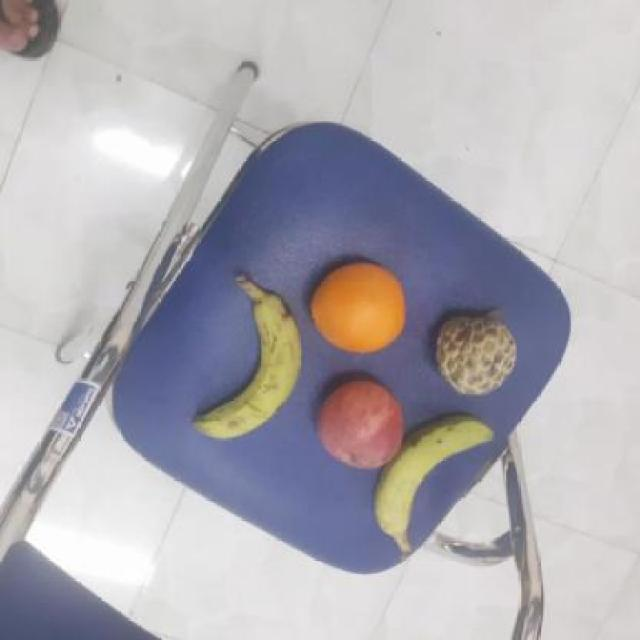apple: (312, 379, 408, 476)
banana: (188, 287, 302, 444), (374, 416, 498, 542)
oren: (309, 258, 408, 356)
sugar apple: (434, 306, 521, 397)
